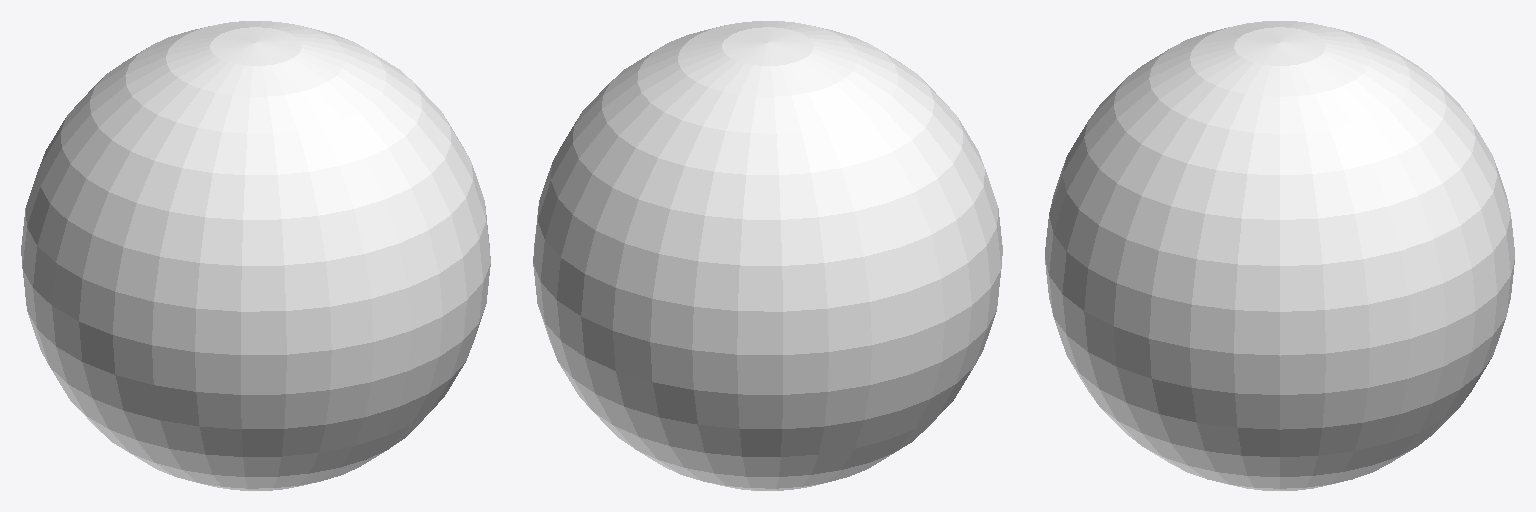
File: Earth.obj
The picture shows the model from 3 angles: view 1: azimuth 30°, elevation 25°; view 2: azimuth 150°, elevation 25°; view 3: azimuth 270°, elevation 25°; orthographic projection.
Visible parts, largest first — view 1: Sphere001; view 2: Sphere001; view 3: Sphere001.
Boxes of the visible parts, <box> form: Sphere001: <box>21,21,490,490</box>; Sphere001: <box>533,21,1002,490</box>; Sphere001: <box>1045,21,1514,490</box>.
Size of the model in its own units: 12720000 by 12720000 by 12720000.